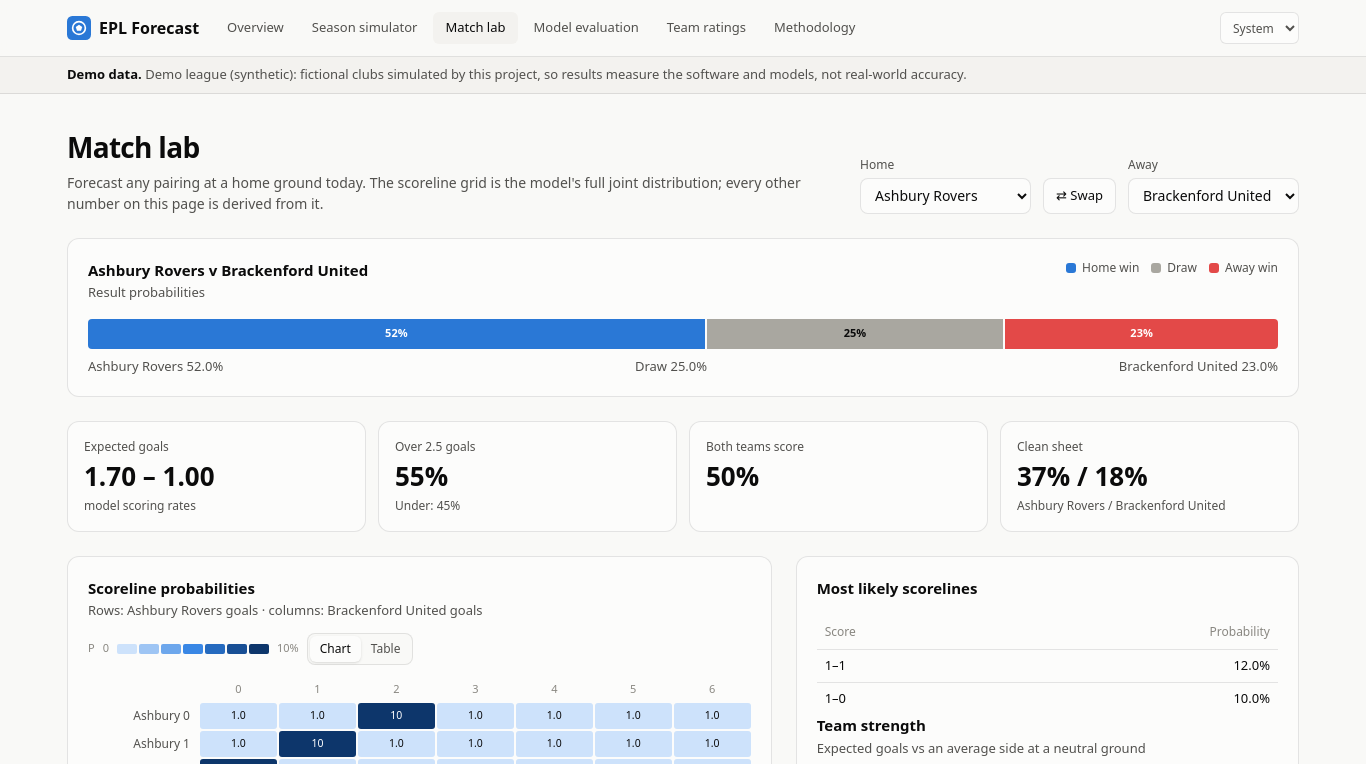
match lab › swaps home and away and requests the reversed fixture
The width and height of the screenshot is (1366, 764).
Expected: the heading "Ashbury Rovers v Brackenford United" is shown, [88, 258, 368, 281]
Click the button with aria-label "Swap home and away" at (1080, 196), box [1043, 178, 1116, 214]
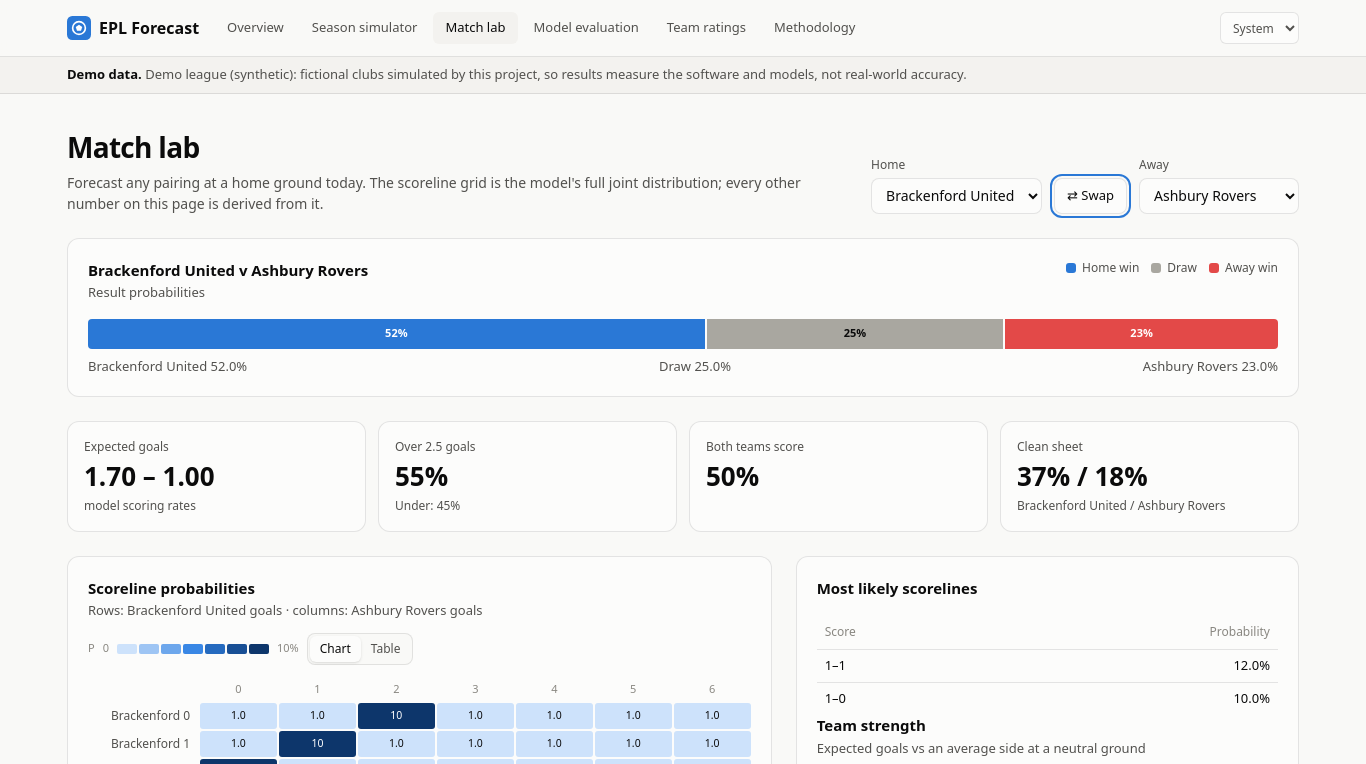
Expected: the heading "Brackenford United v Ashbury Rovers" is shown, [88, 258, 368, 281]
